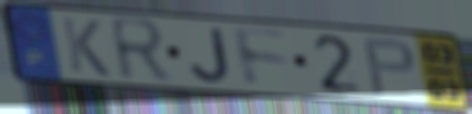2: (311, 33, 364, 96)
F: (229, 24, 293, 90)
J: (187, 26, 234, 86)
K: (58, 15, 112, 79)
P: (360, 36, 419, 98)
R: (105, 14, 175, 86)
